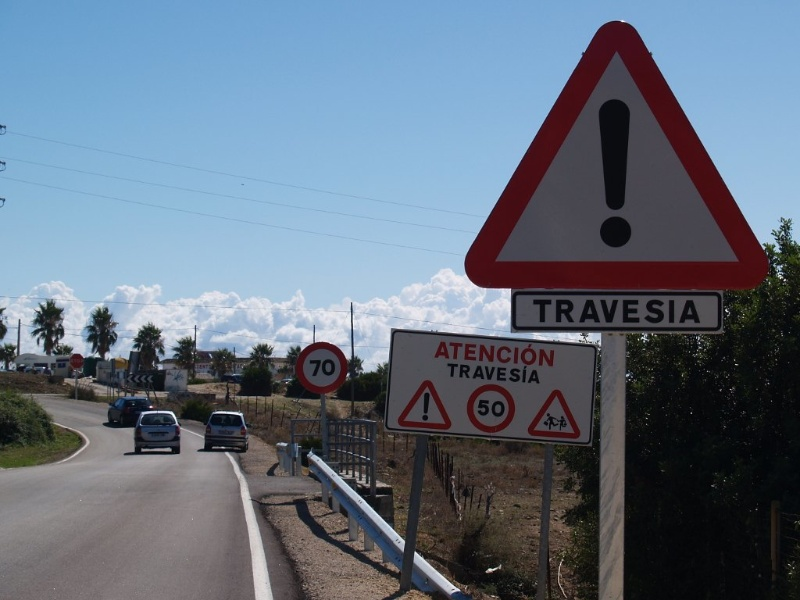pedestrian_crossing_ahead: (528, 385, 582, 439)
speed_limit_50: (465, 382, 516, 433)
speed_limit_70: (295, 342, 350, 394)
warning: (465, 12, 772, 291), (394, 376, 456, 430)
